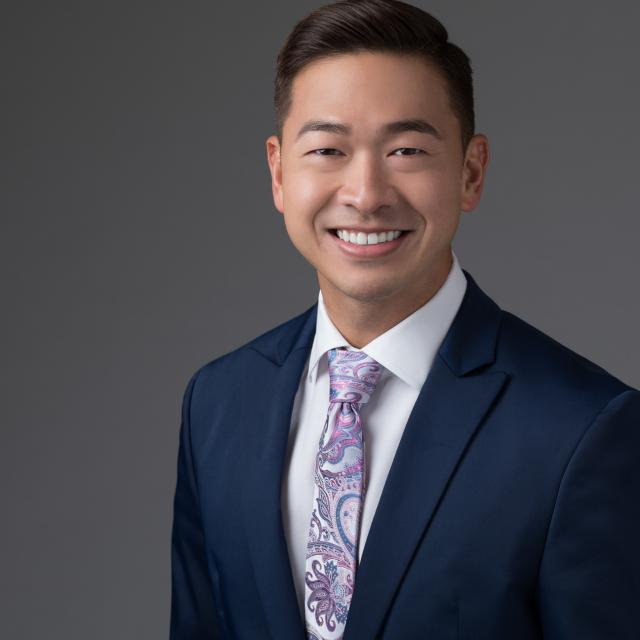nothing: (254, 2, 504, 146)
